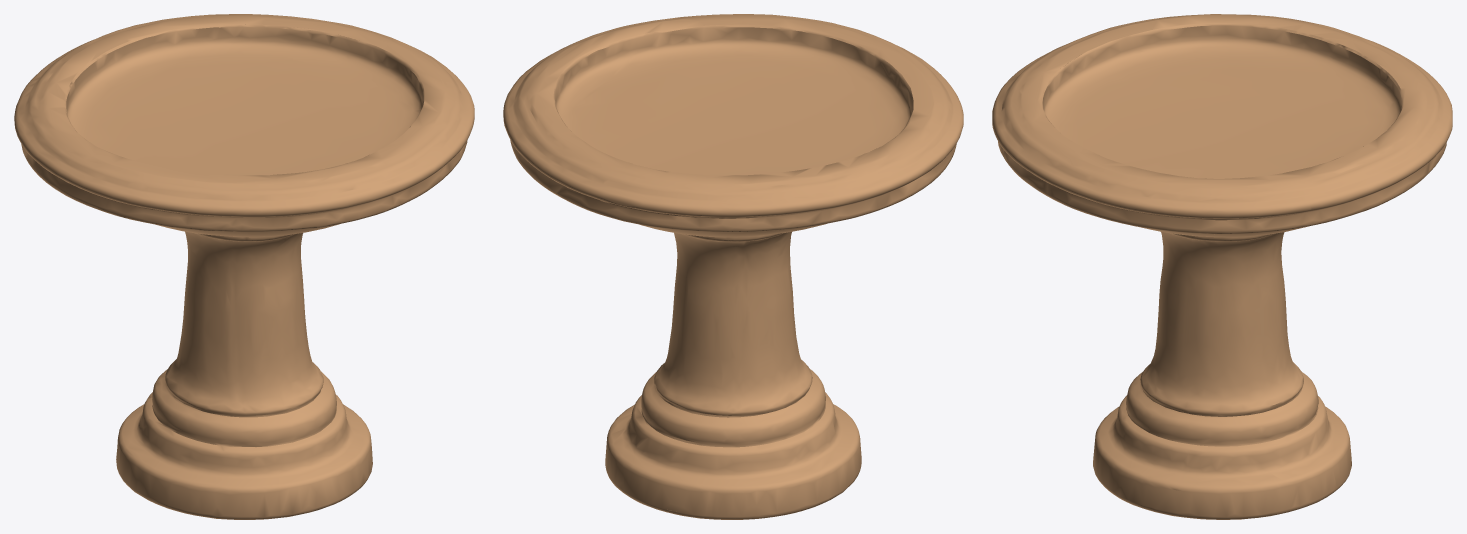
Rendered from sandstone-birdbath-v001.glb.
The picture shows the model from 3 angles, left to right: view 1: azimuth 30°, elevation 25°; view 2: azimuth 150°, elevation 25°; view 3: azimuth 270°, elevation 25°; orthographic projection.
Visible parts, largest first — view 1: sandstone-birdbath; view 2: sandstone-birdbath; view 3: sandstone-birdbath.
Boxes of the visible parts, left/top/right/bottom form: sandstone-birdbath: left=14, top=14, right=474, bottom=519; sandstone-birdbath: left=503, top=14, right=963, bottom=519; sandstone-birdbath: left=992, top=14, right=1452, bottom=519.
Bounding box in the file's own units: 0.677 × 0.6001 × 0.676.
